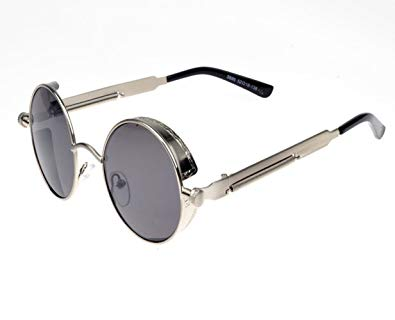sunglasses: (13, 81, 237, 243)
